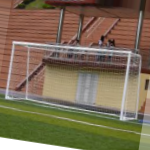goals: (4, 40, 142, 122)
